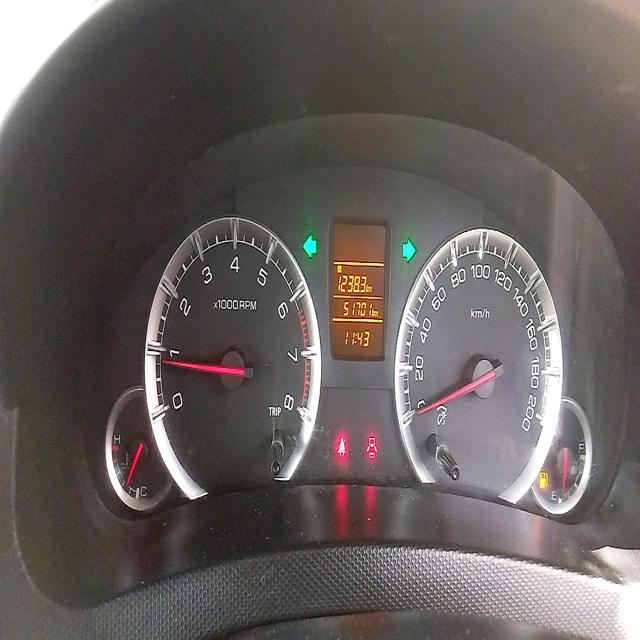odometer: (339, 297, 373, 320)
